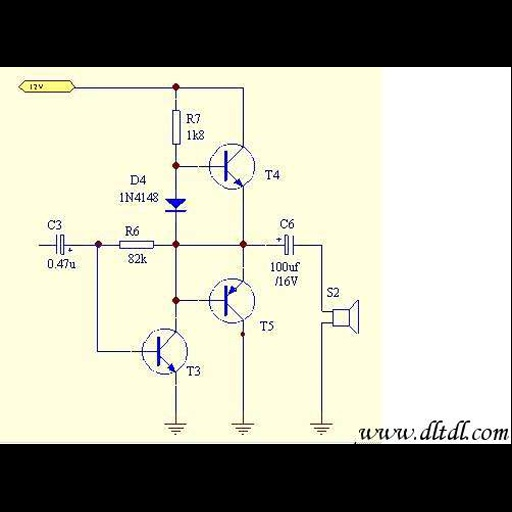firstdiode: (163, 196, 189, 215)
firstresistance: (168, 107, 184, 149), (116, 237, 159, 251)
gnd: (305, 420, 337, 437), (159, 422, 191, 436), (229, 421, 257, 435)
loudspeaker: (330, 297, 364, 334)
npn: (218, 145, 245, 188), (153, 332, 178, 372)
pnp: (220, 281, 245, 322)
secondpolarcapacitor: (270, 234, 302, 257), (51, 231, 76, 256)
